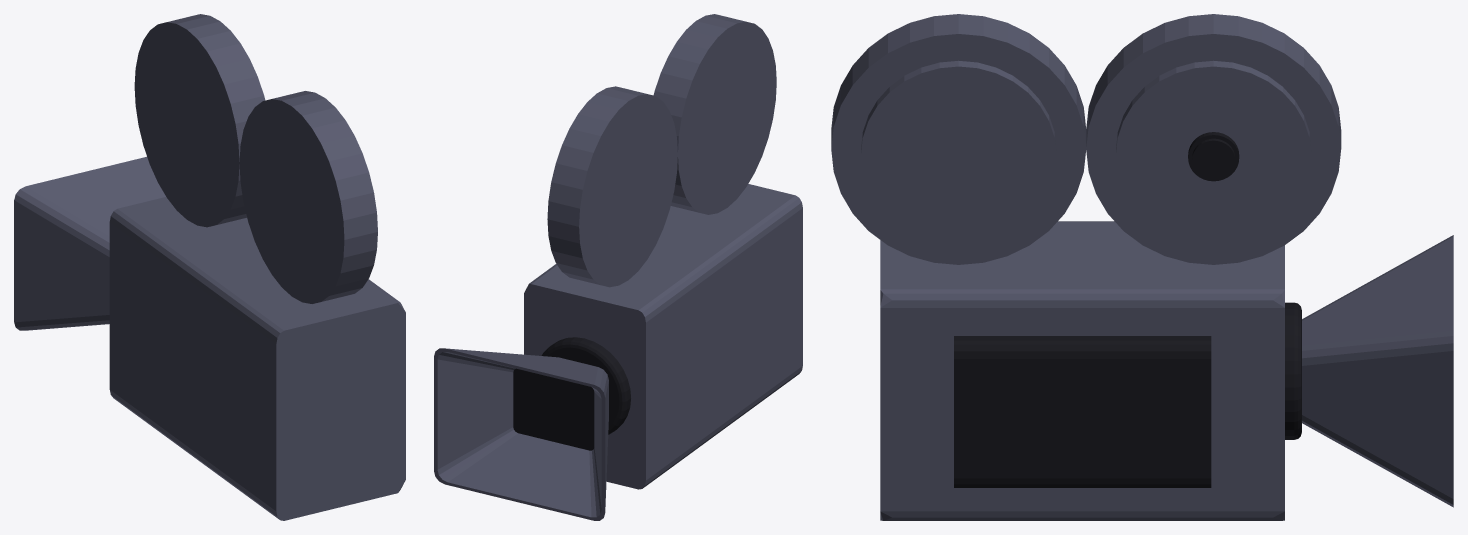
The model's file is video_diaries.glb.
3 views of the same model, side by side, from view 1: azimuth 30°, elevation 25°; view 2: azimuth 150°, elevation 25°; view 3: azimuth 270°, elevation 25° (orthographic). The views are drawn at different scales.
Visible parts, largest first — view 1: Cylinder.003; view 2: Cylinder.003; view 3: Cylinder.003.
Boxes of the visible parts, x1,y1,x2,y2 form: Cylinder.003: (14, 14, 405, 520); Cylinder.003: (434, 14, 802, 520); Cylinder.003: (831, 14, 1453, 520).
Size of the model in its own units: 0.6895 by 1.38 by 1.68.
